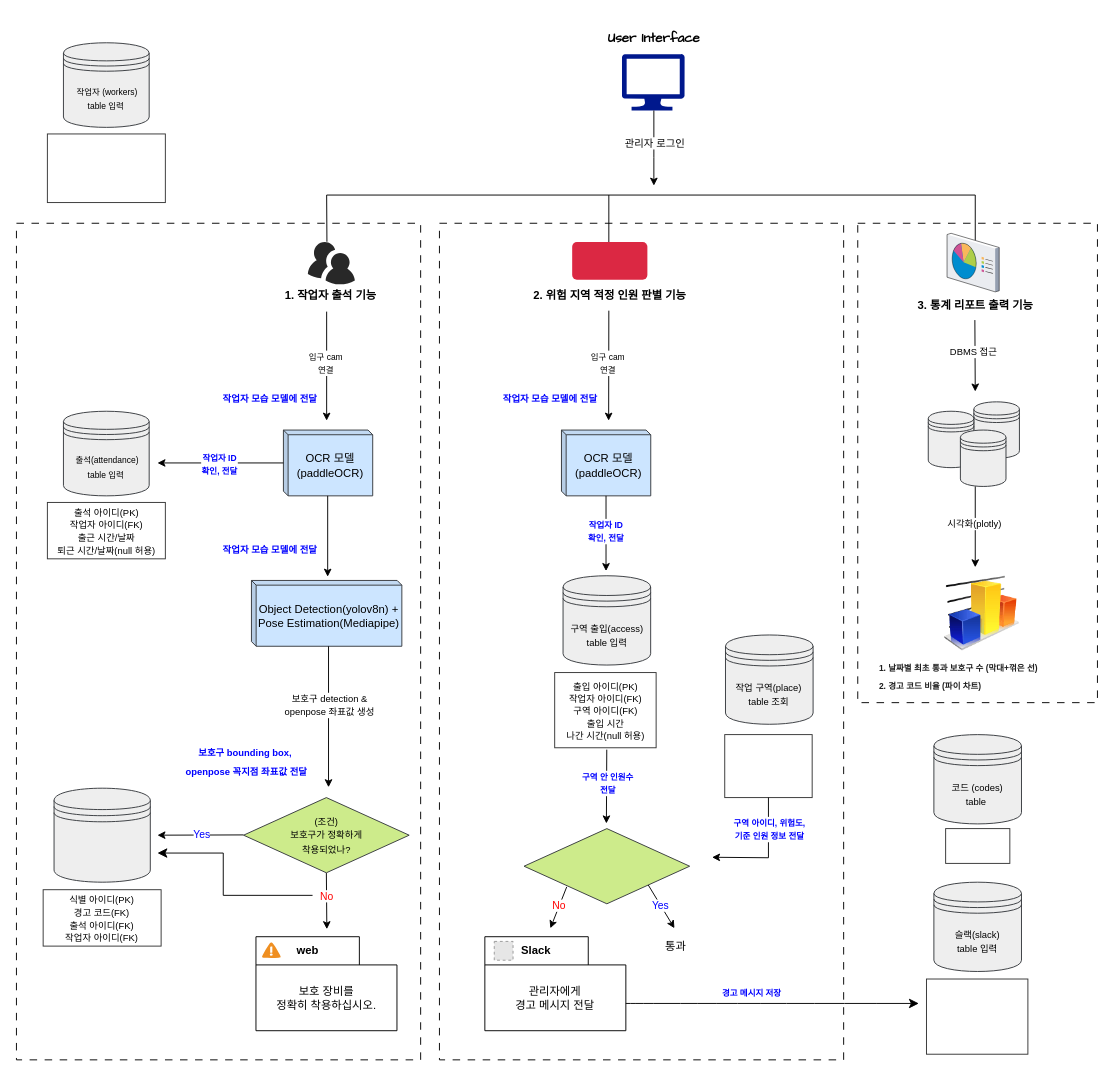
This 1114x1078 diagram has some shape labels left out. Grey dashed boxes stand in for pictures. Here are the shapes that lost their labels. From the top down, the box of each, then its label:
(46, 133, 165, 203): 작업자 아이디(PK) 작업자 이름 담당자 아이디(null 허용) 작업자 연락처 작업자 이메일(null 허용)
(572, 242, 647, 279): Danger
(724, 734, 812, 798): 구역 아이디(PK) 작업 위치 위험도 기준 인원
(53, 787, 150, 882): 보호구 착용 여부(safety_check) table 입력
(945, 828, 1010, 863): 코드(PK) 내용
(523, 828, 690, 904): (조건) 위험지역 내 인원수가 2명 이상인가?
(926, 978, 1028, 1054): 슬랙경고 아이디(PK) 구역 아이디(FK) 메시지 경고 코드(FK) 경고 날짜/시간
